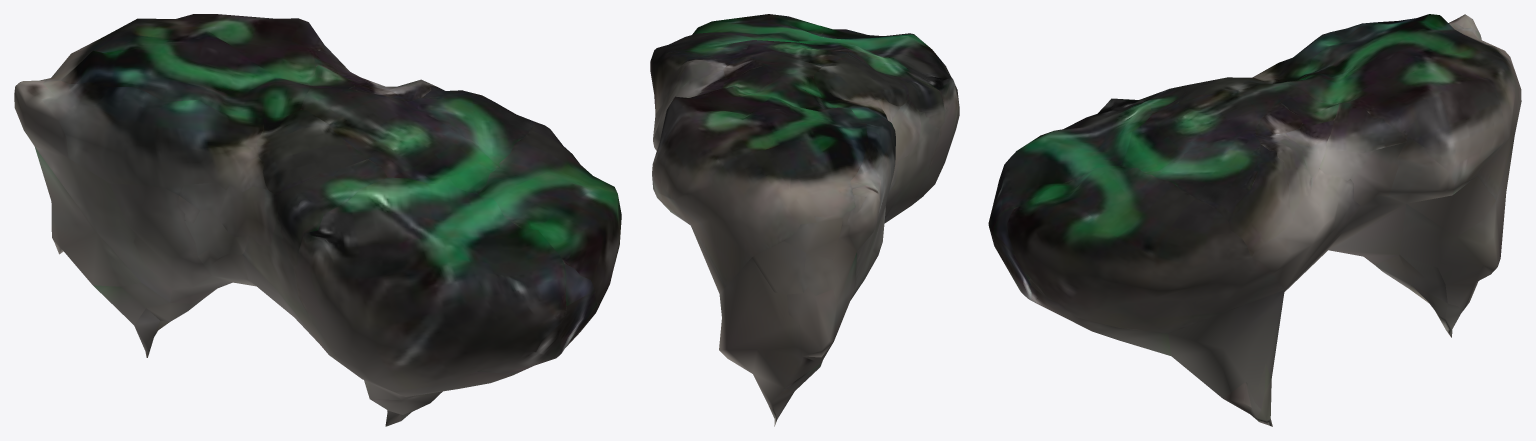
File: hall.glb
The picture shows the model from 3 angles, left to right: view 1: azimuth 30°, elevation 25°; view 2: azimuth 150°, elevation 25°; view 3: azimuth 270°, elevation 25°; orthographic projection. The views are drawn at different scales.
Bounding box in the file's own units: 0.3396 × 0.2866 × 0.4254.
1 material, 1 textured.
